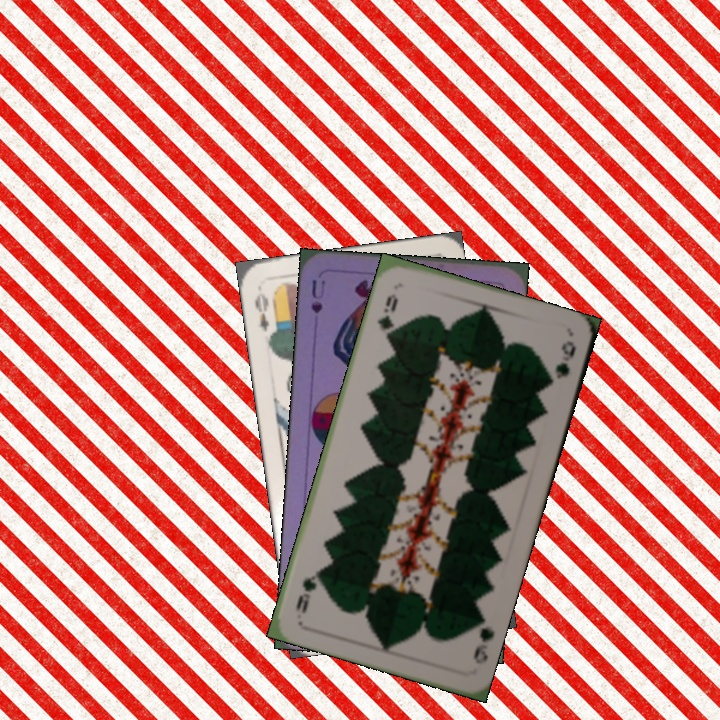EO: (250, 289, 272, 335)
G9: (469, 612, 497, 667), (373, 289, 401, 343)
SU: (307, 275, 328, 316)
